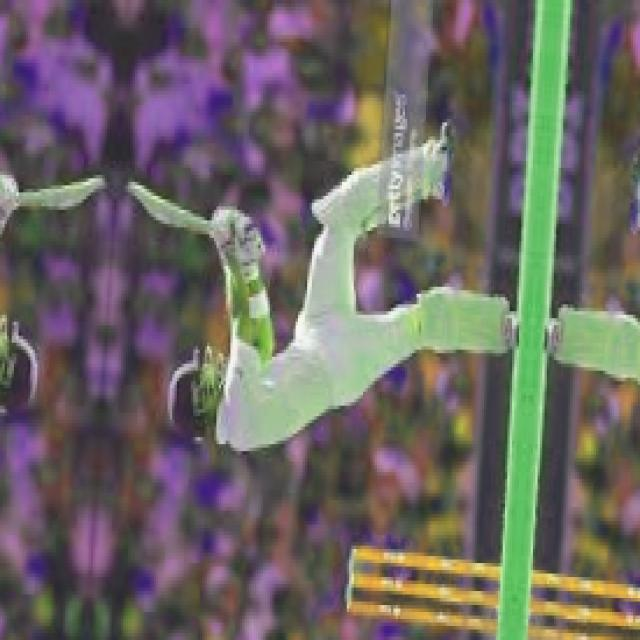toe: (118, 179, 155, 207)
